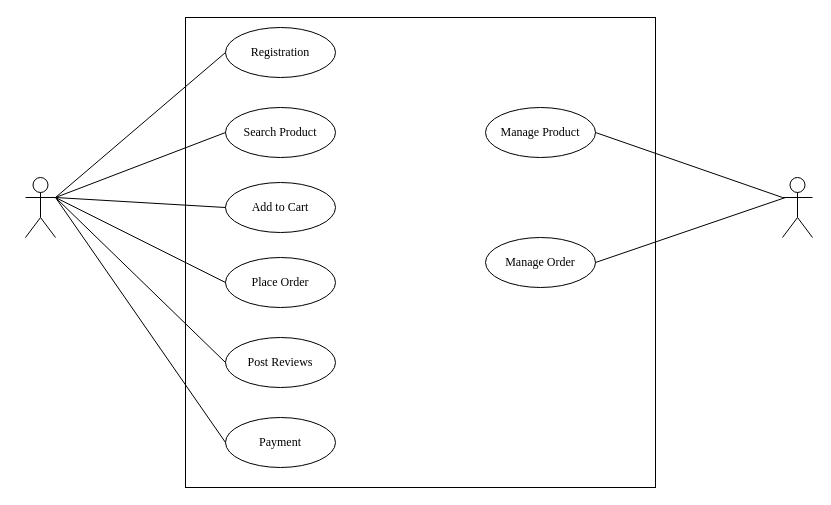
The diagram is 831 pixels wide and 505 high, and some of its shapes have lost their labels. Here are the shapes that lost their labels. From the top down, the centre of each, then its label:
(x=40, y=207): Customer
(x=797, y=207): Admin
